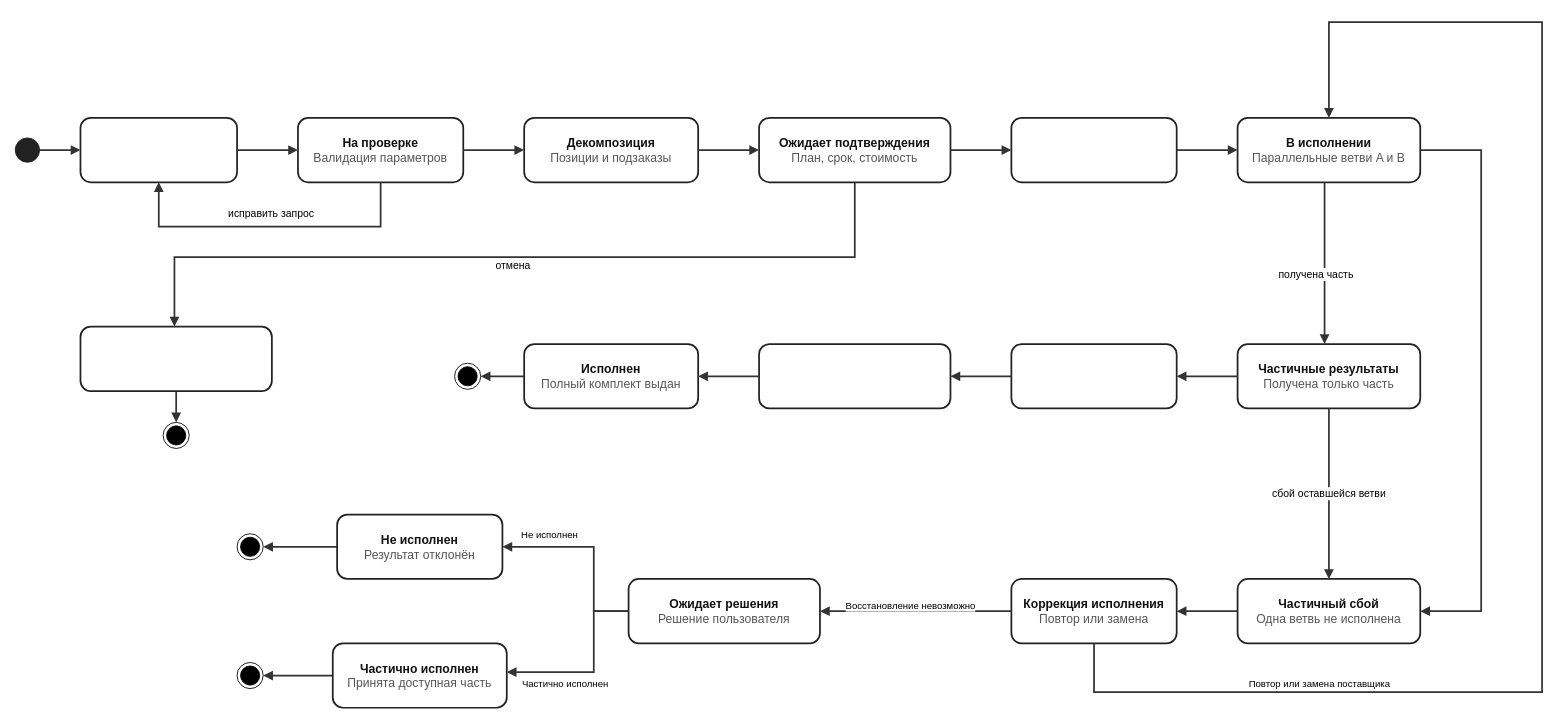
Some shapes in this 1565 by 723 pixel diagram are drawn without their labels. The centre of each missing label's shape, as x and y in pixels:
"Агрегация Сведение результатов" belongs at (x=1093, y=376).
"Отменён До размещения подзаказов" belongs at (x=175, y=358).
"Проверка результата Формат, полнота, SLA" belongs at (x=854, y=376).
"Размещается Подзаказы направляются" belongs at (x=1093, y=150).
"Черновик Запрос редактируется" belongs at (x=158, y=150).
